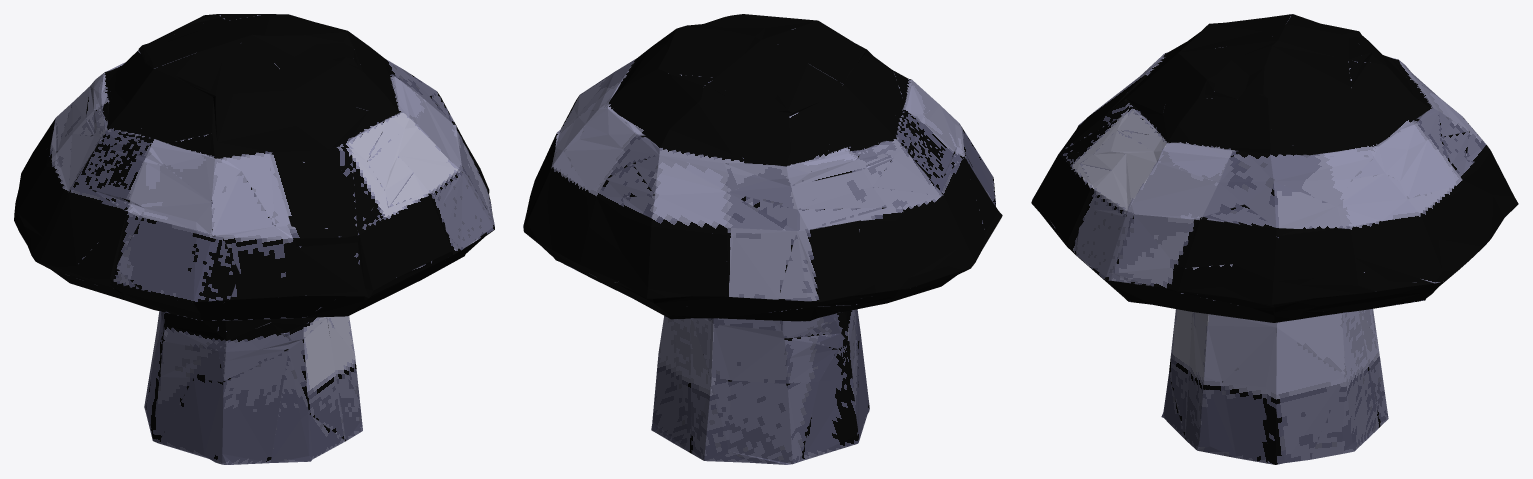
The picture shows the model from 3 angles, left to right: view 1: azimuth 30°, elevation 25°; view 2: azimuth 150°, elevation 25°; view 3: azimuth 270°, elevation 25°; orthographic projection.
Visible parts, largest first — view 1: OBJ0b9; view 2: OBJ0b9; view 3: OBJ0b9.
Part boxes in pixels (x1,y1,x2,y2): OBJ0b9: (14, 14, 494, 464); OBJ0b9: (523, 14, 1002, 464); OBJ0b9: (1031, 14, 1518, 464).
Size of the model in its own units: 0.1798 by 0.155 by 0.1807.
1 material, 1 textured.
